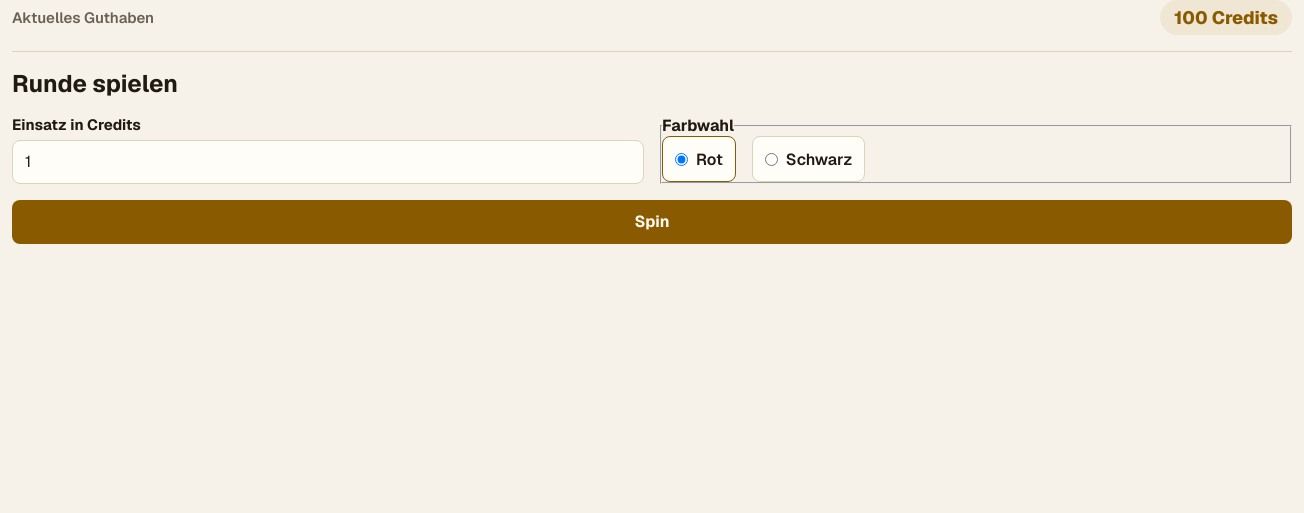
Test: RouletteGame › controls input, blocks duplicate pending submits, and shows server results
The image size is (1304, 513).
Replace the text in the number field labelled "Einsatz in Credits" with "10". click: (328, 162)
box: left=12, top=140, right=644, bottom=184
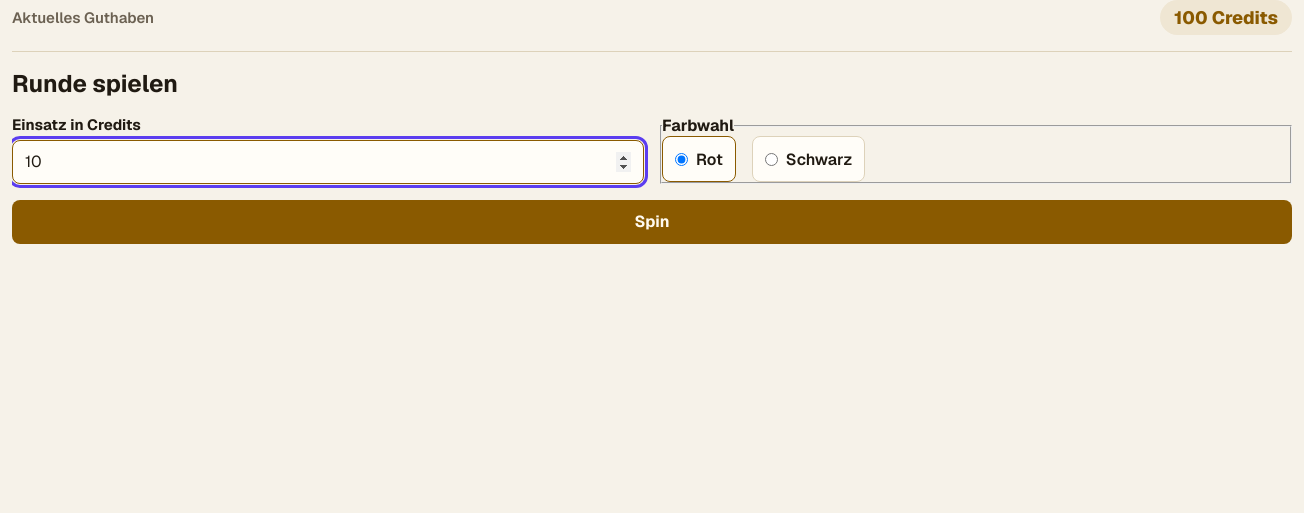
Click the radio button labelled "Schwarz". click: (771, 159)
box: left=765, top=152, right=778, bottom=166
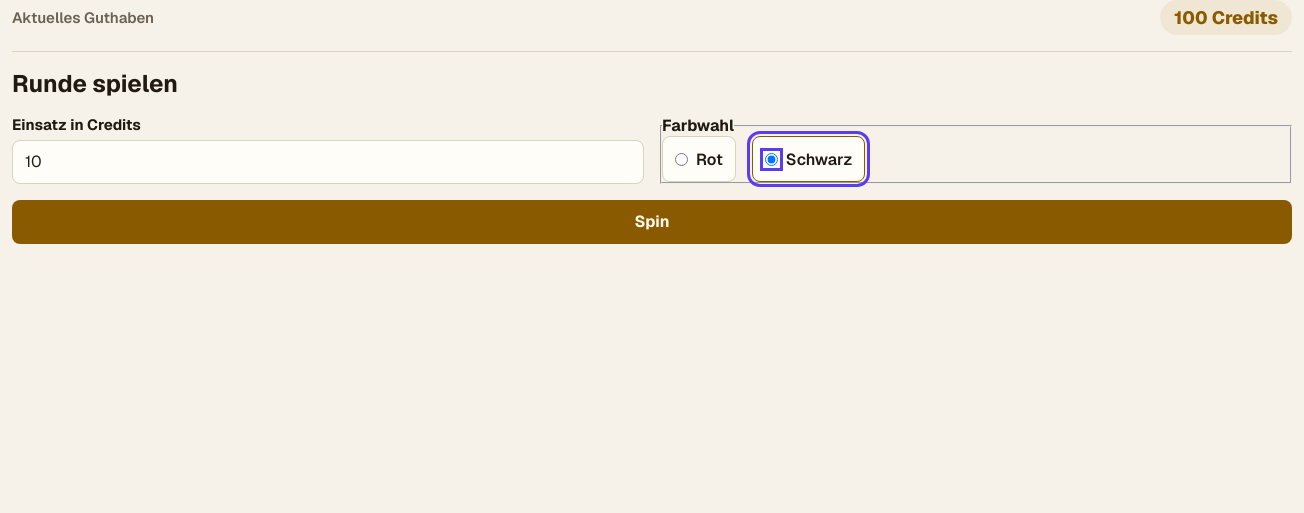
Result: the radio button labelled "Schwarz" is checked at left=765, top=152, right=778, bottom=166
Click the button "Spin". click: (652, 222)
box: left=12, top=200, right=1292, bottom=244
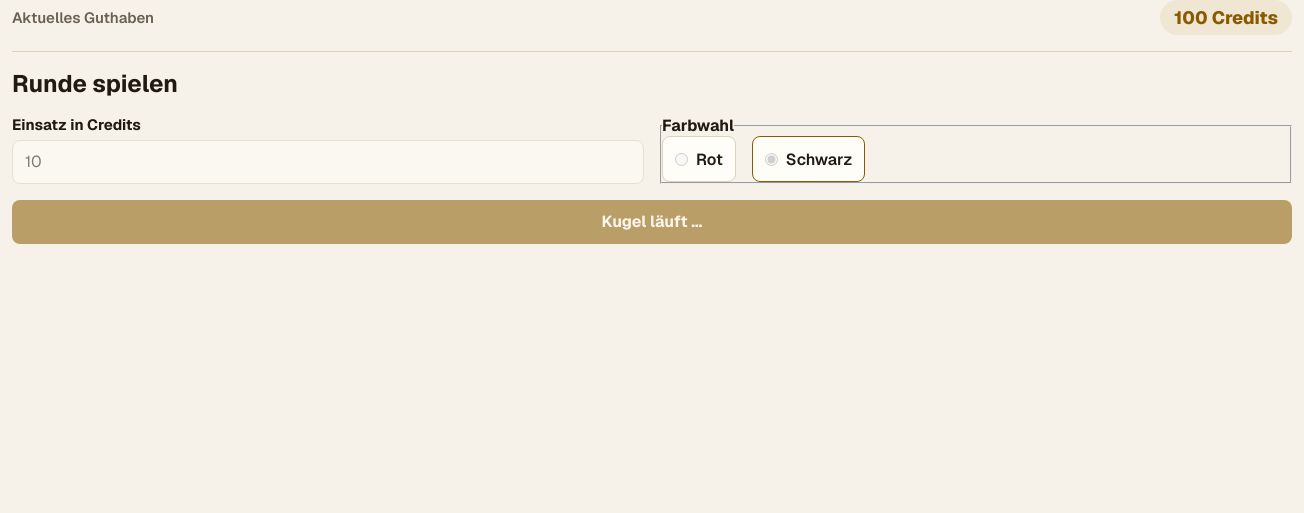
Result: the number field labelled "Einsatz in Credits" is disabled at left=12, top=140, right=644, bottom=184
Result: the radio button labelled "Schwarz" is disabled at left=765, top=152, right=778, bottom=166
Result: the button "Kugel läuft …" is disabled
Click the button "Kugel läuft …". click: (652, 222)
box: left=12, top=200, right=1292, bottom=244
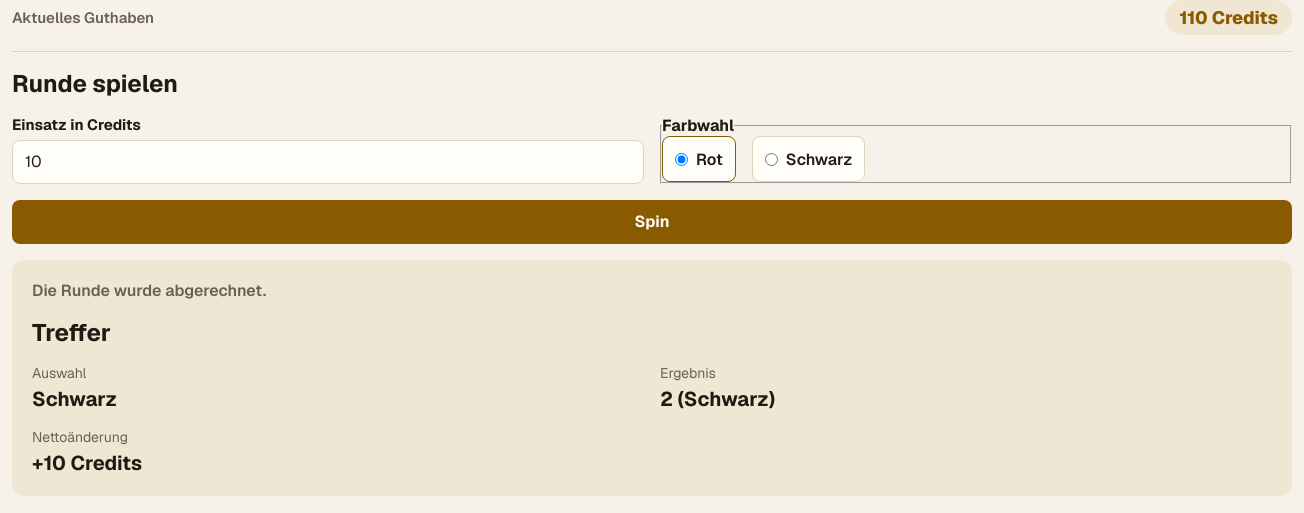
Result: the heading "Treffer" is shown at left=32, top=317, right=111, bottom=348
Result: the text "2 (Schwarz)" is shown at left=660, top=386, right=775, bottom=412
Result: the text "+10 Credits" is shown at left=32, top=450, right=142, bottom=476
